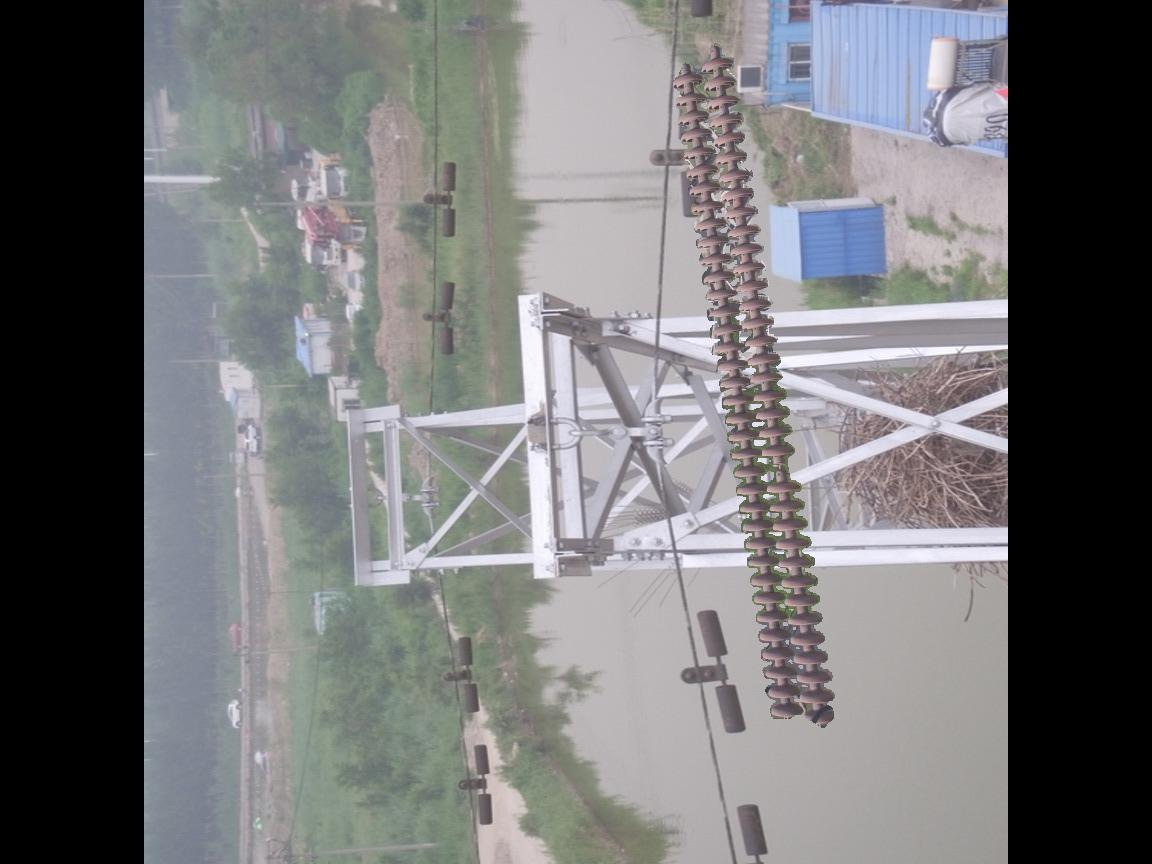insulator: (669, 48, 840, 734)
insulator_stringdrop: (756, 440, 805, 499)
